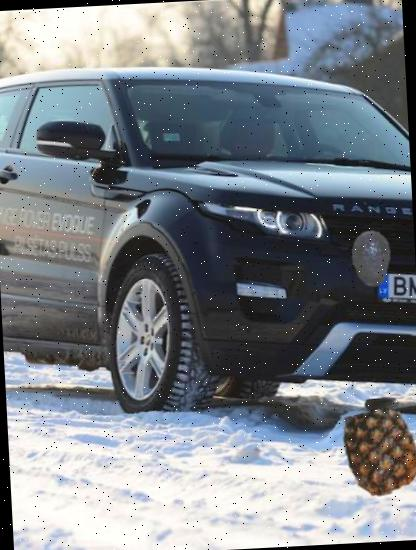Avocado: (341, 229, 401, 289)
Pineapple: (336, 407, 416, 497)
